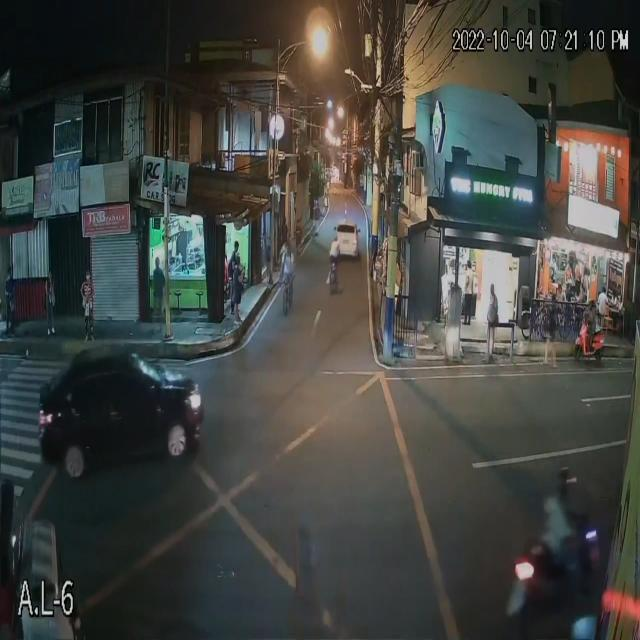Half-Faced: (548, 459, 576, 502)
